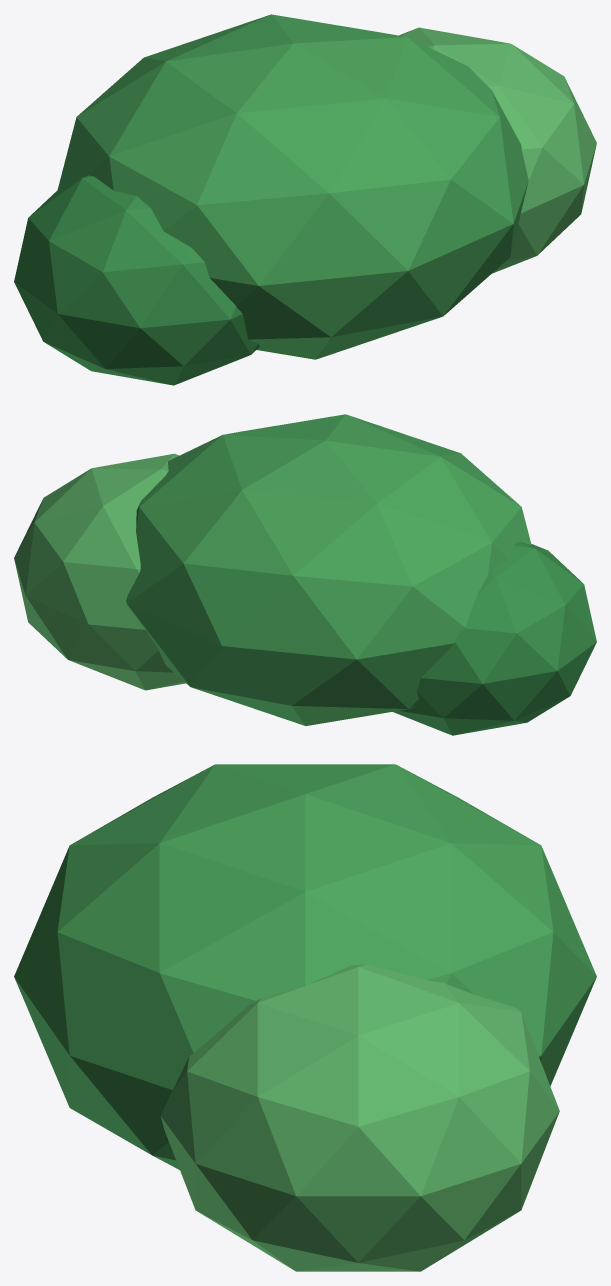
The model's file is Bike_Bush.fbx.
3 renders of one model, top to bottom at view 1: azimuth 30°, elevation 25°; view 2: azimuth 150°, elevation 25°; view 3: azimuth 270°, elevation 25°, orthographic. The views are drawn at different scales.
Visible parts, largest first — view 1: Bush; view 2: Bush; view 3: Bush.
Boxes of the visible parts, x1,y1,x2,y2 form: Bush: (14,14,596,385); Bush: (14,414,596,735); Bush: (14,764,596,1271).
Size of the model in its own units: 1.57 by 0.76 by 1.1.
